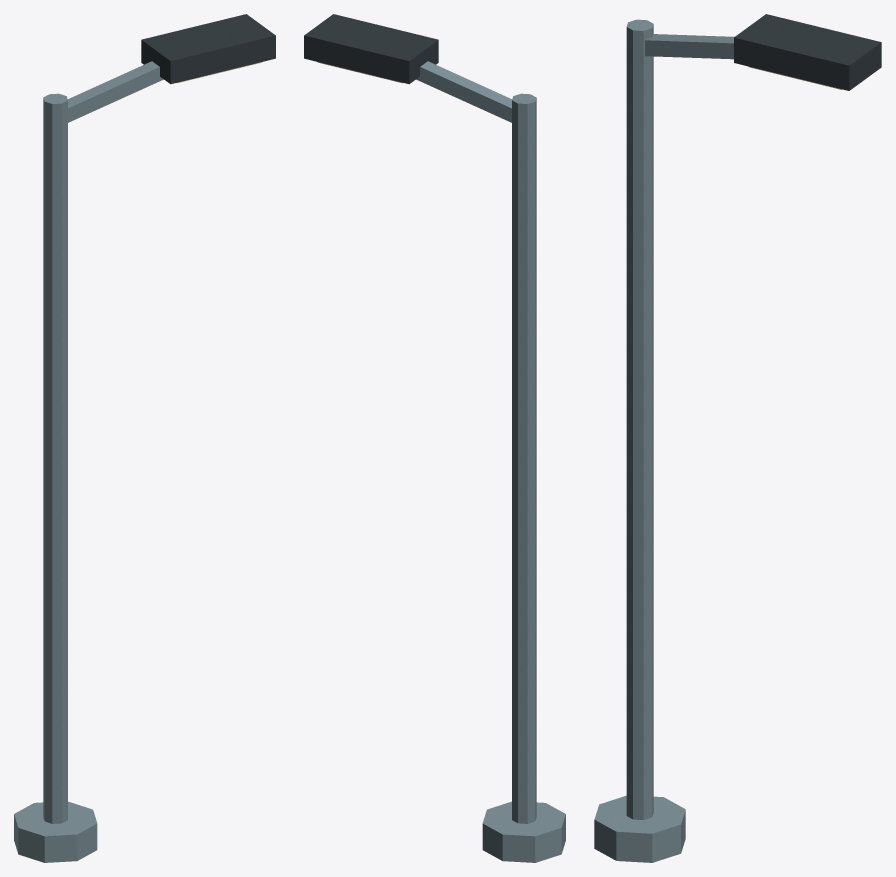
File: streetlamp.glb
The picture shows the model from 3 angles, left to right: view 1: azimuth 30°, elevation 25°; view 2: azimuth 150°, elevation 25°; view 3: azimuth 330°, elevation 25°; orthographic projection. The views are drawn at different scales.
Visible parts, largest first — view 1: Street lamp pole 002, Lamp canopy 004, Lamp foot 001, Overhanging arm 003; view 2: Street lamp pole 002, Lamp canopy 004, Lamp foot 001, Overhanging arm 003; view 3: Street lamp pole 002, Lamp canopy 004, Lamp foot 001, Overhanging arm 003.
Boxes of the visible parts, left/top/right/bottom form: Street lamp pole 002: left=43, top=93, right=67, bottom=823; Lamp canopy 004: left=141, top=14, right=275, bottom=84; Lamp foot 001: left=14, top=801, right=97, bottom=862; Overhanging arm 003: left=68, top=61, right=163, bottom=122; Street lamp pole 002: left=512, top=93, right=536, bottom=823; Lamp canopy 004: left=304, top=14, right=438, bottom=84; Lamp foot 001: left=482, top=801, right=565, bottom=862; Overhanging arm 003: left=416, top=61, right=511, bottom=122; Street lamp pole 002: left=626, top=19, right=653, bottom=819; Lamp canopy 004: left=734, top=14, right=881, bottom=90; Lamp foot 001: left=594, top=795, right=685, bottom=862; Overhanging arm 003: left=645, top=34, right=734, bottom=59.
Size of the model in its own units: 1.43 by 4.34 by 0.44.
3 materials, 3 textured.
